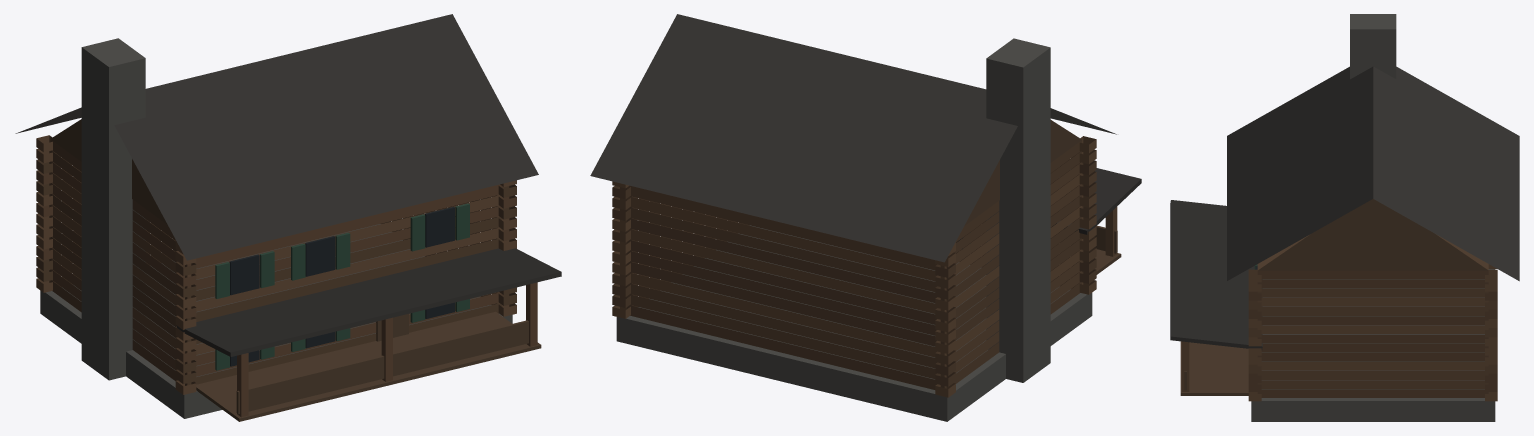
Rendered from eifel-lodge.glb.
The picture shows the model from 3 angles, left to right: view 1: azimuth 30°, elevation 25°; view 2: azimuth 150°, elevation 25°; view 3: azimuth 270°, elevation 25°; orthographic projection. The views are drawn at different scales.
Parts seen in each view (by area): view 1: eifel-lodge; view 2: eifel-lodge; view 3: eifel-lodge.
Part boxes in pixels (x1,y1,x2,y2): eifel-lodge: (15,14,561,421); eifel-lodge: (590,14,1141,421); eifel-lodge: (1170,14,1519,421).
Size of the model in its own units: 13.6 by 11.4 by 13.6.
